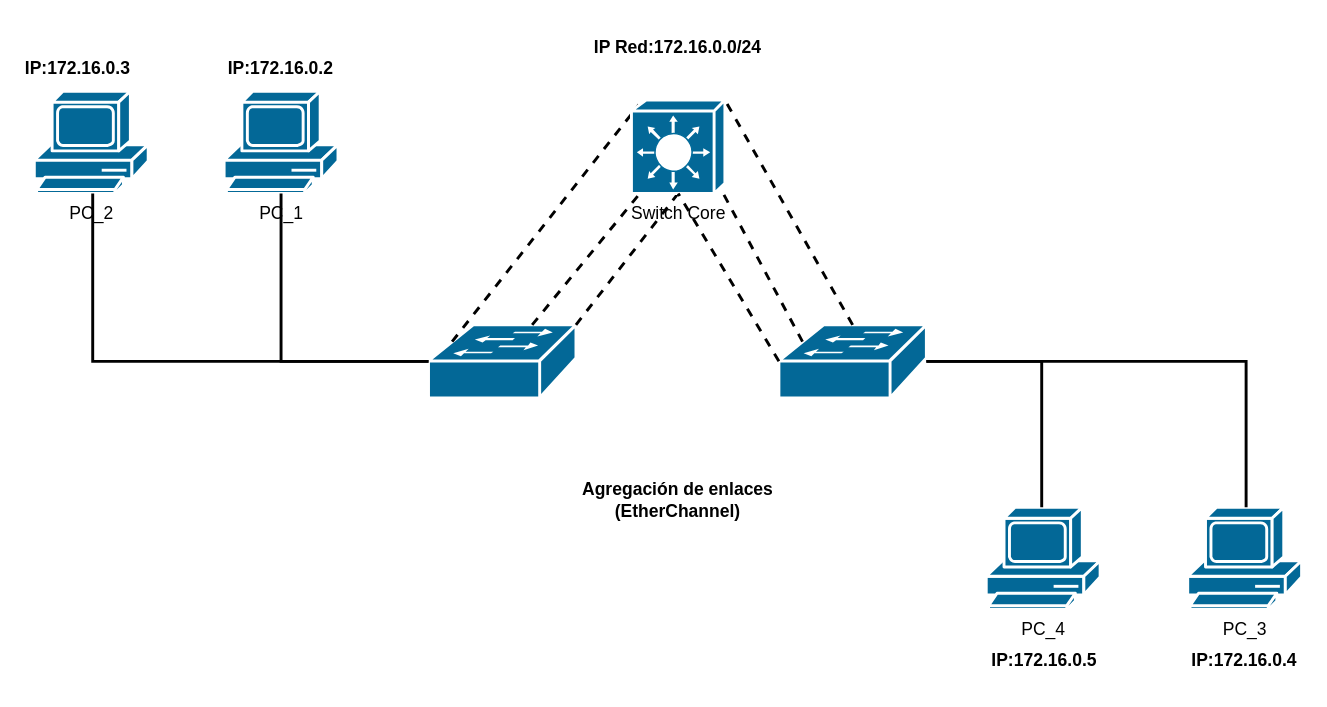
This 1327x707 diagram has some shape labels left out. Each missing label, with the centre of its shape:
Switch_A: the point at 501,361
Switch_B: the point at 852,361
